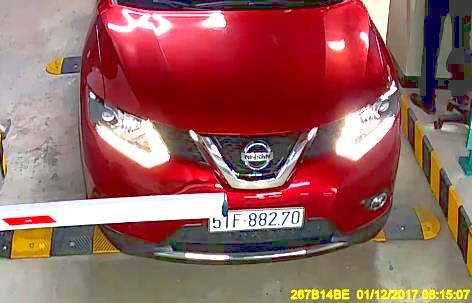plate: (208, 203, 303, 234)
